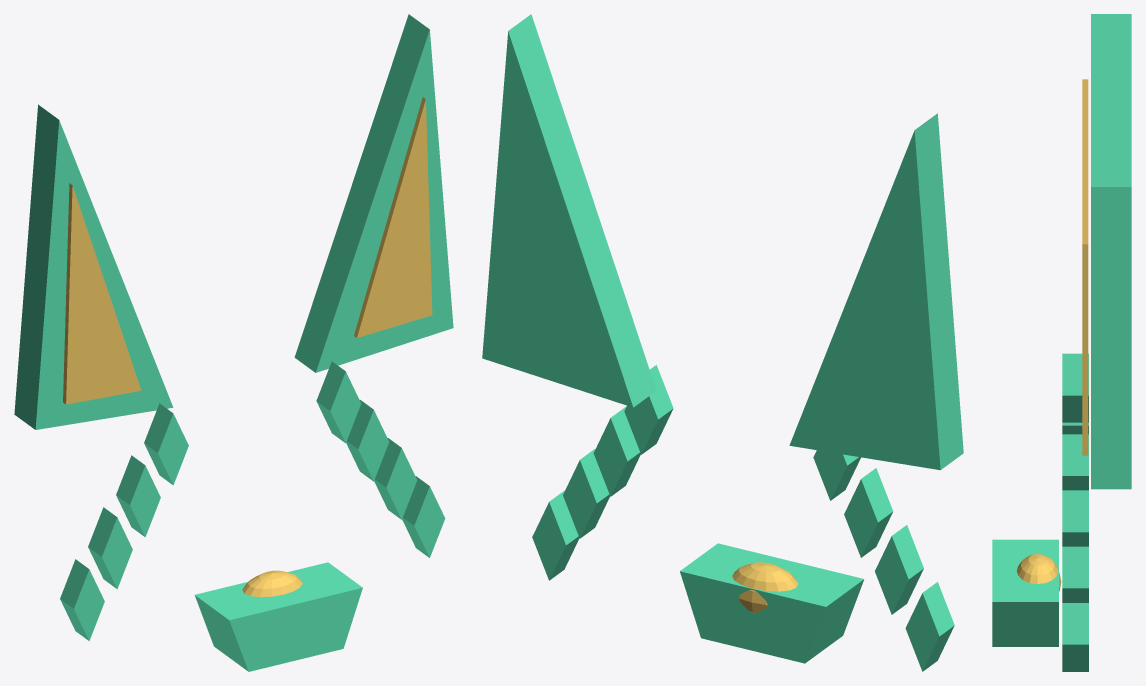
Rendered from dragon-mask.glb.
3 views of the same model, side by side, from view 1: azimuth 30°, elevation 25°; view 2: azimuth 150°, elevation 25°; view 3: azimuth 270°, elevation 25° (orthographic). The views are drawn at different scales.
Visible parts, largest first — view 1: dragon horn (×2), dragon horn inner (×2), dragon scale (×8), dragon snout, nose; view 2: dragon horn (×2), dragon scale (×8), dragon snout, nose; view 3: dragon horn (×2), dragon scale (×6), dragon snout, dragon horn inner (×2), nose.
Boxes of the visible parts, x1,y1,x2,y2 form: dragon horn (×2): (14, 14, 453, 429); dragon horn inner (×2): (63, 97, 432, 404); dragon scale (×8): (60, 361, 445, 640); dragon snout: (194, 562, 362, 671); nose: (242, 570, 302, 597); dragon horn (×2): (482, 14, 963, 470); dragon scale (×8): (532, 365, 954, 671); dragon snout: (680, 543, 864, 663); nose: (732, 562, 798, 612); dragon horn (×2): (1091, 14, 1131, 489); dragon scale (×6): (1062, 353, 1088, 671); dragon snout: (992, 539, 1058, 646); dragon horn inner (×2): (1082, 79, 1088, 455); nose: (1017, 554, 1061, 591).
Size of the model in its own units: 1.94 by 2.43 by 0.585.
